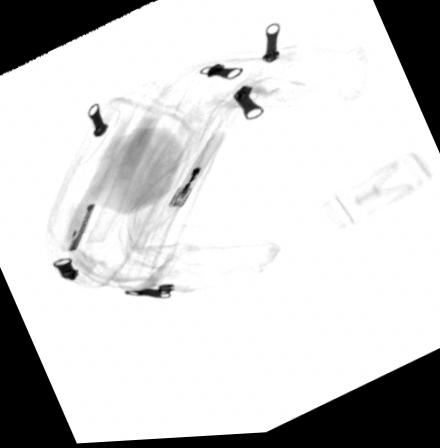Lighter: (168, 133, 224, 211)
